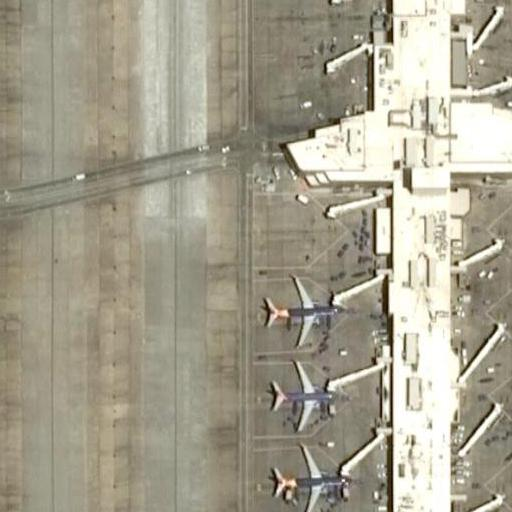Aircraft: (257, 265, 341, 351), (263, 351, 345, 431), (268, 440, 352, 512)
